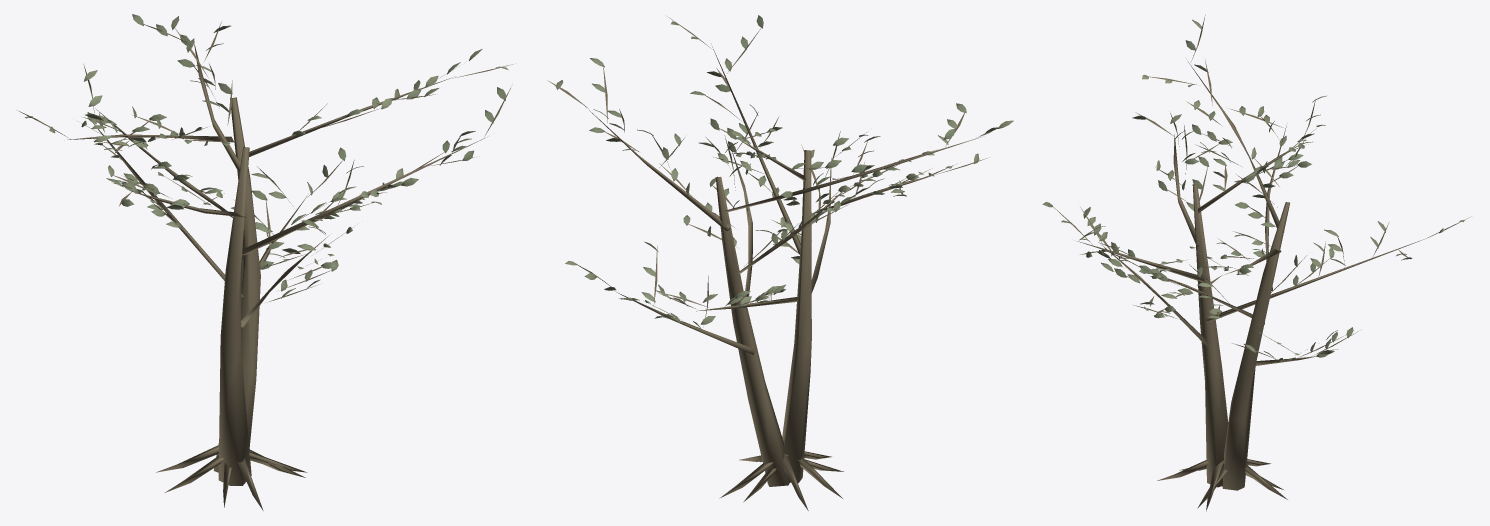
Rendered from Oleastre_0_LOD2.fbx.
3 views of the same model, side by side, from view 1: azimuth 30°, elevation 25°; view 2: azimuth 150°, elevation 25°; view 3: azimuth 270°, elevation 25° (orthographic). The views are drawn at different scales.
Parts seen in each view (by area): view 1: Oleastre_0_LOD2; view 2: Oleastre_0_LOD2; view 3: Oleastre_0_LOD2.
Boxes of the visible parts, x1,y1,x2,y2 form: Oleastre_0_LOD2: [19, 14, 513, 510]; Oleastre_0_LOD2: [547, 15, 1013, 510]; Oleastre_0_LOD2: [1042, 15, 1471, 511].
Bounding box in the file's own units: 449 × 372 × 390.
